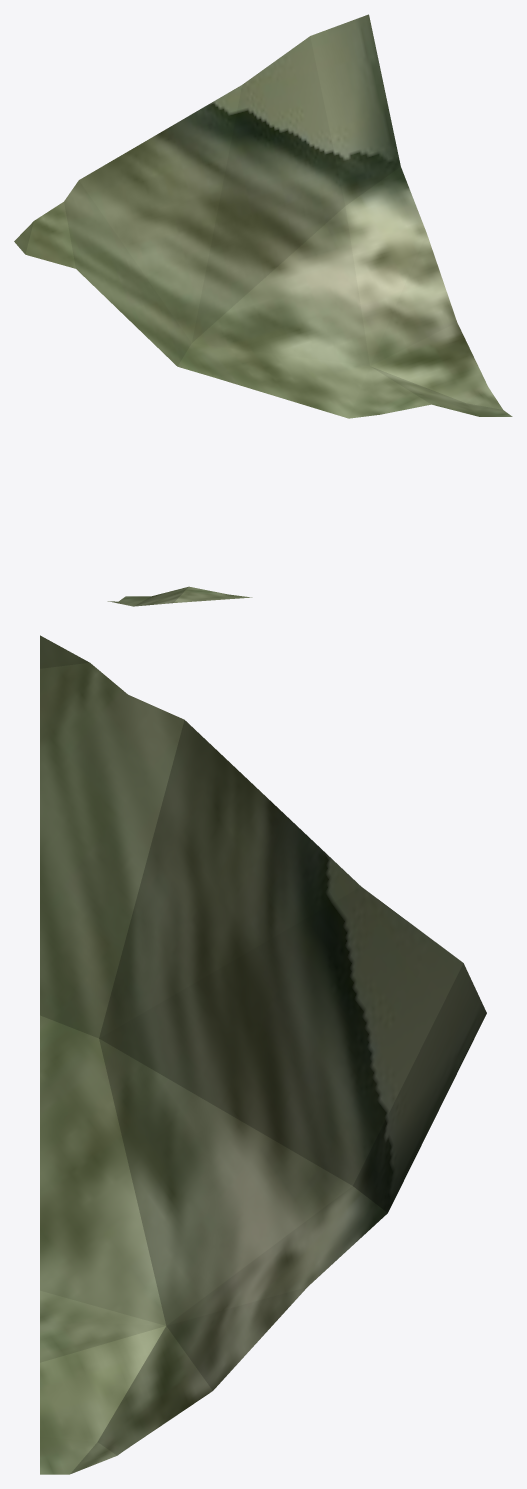
The picture shows the model from 3 angles, top to bottom: view 1: azimuth 30°, elevation 25°; view 2: azimuth 150°, elevation 25°; view 3: azimuth 270°, elevation 25°; orthographic projection. The views are drawn at different scales.
Size of the model in its own units: 1.72 by 0.982 by 0.8622.
1 material, 1 textured.
